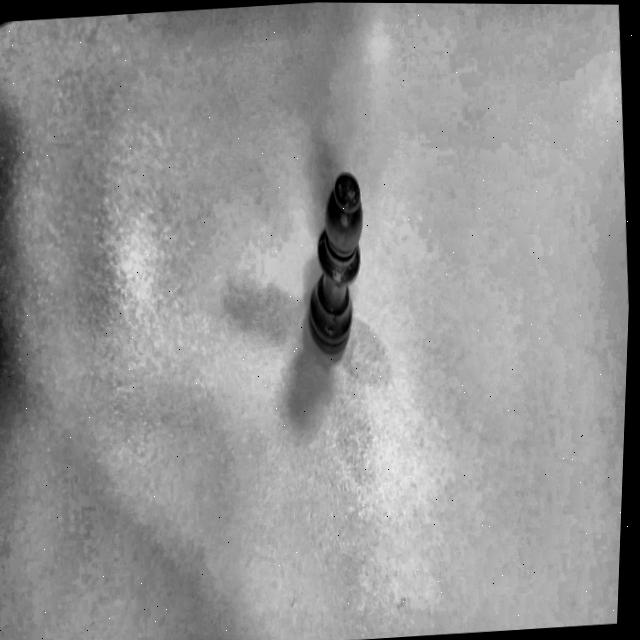black-bishop: (291, 161, 381, 367)
